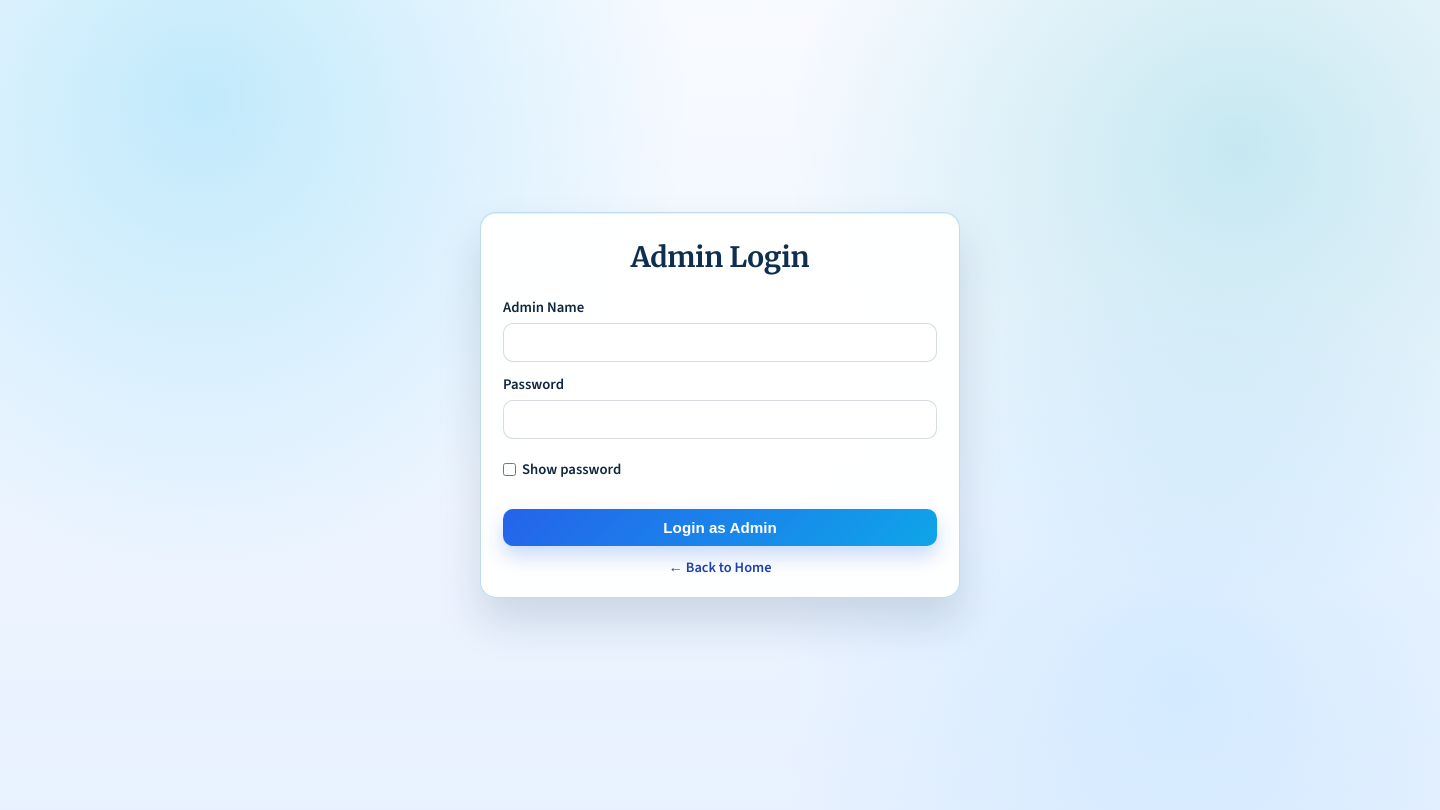
Test: shows error when admin login fails
In the field named "name": x=720, y=343 [503,323,937,362], type "wrong-admin"
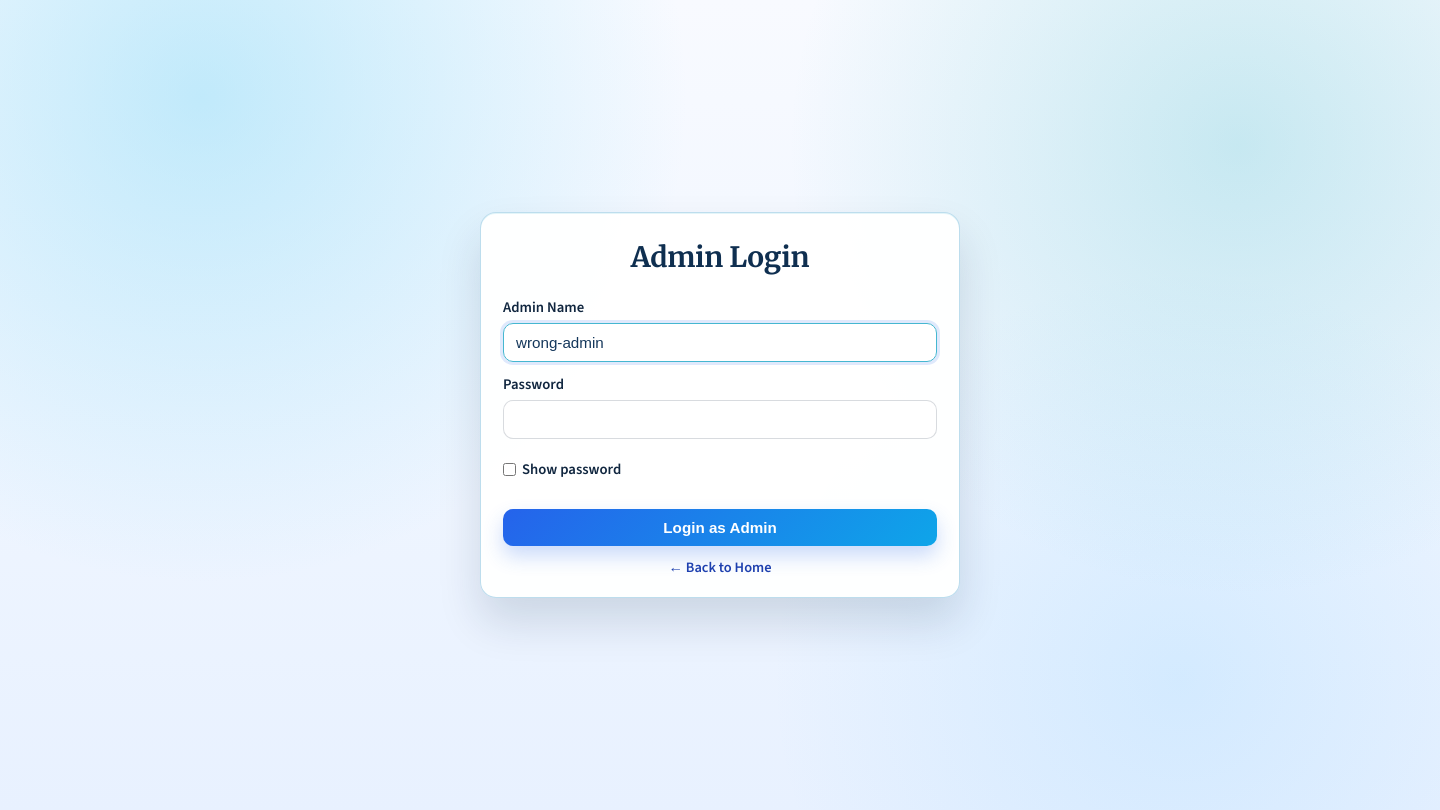
In the password field named "password": x=720, y=420 [503,400,937,439], type "wrong-pass"
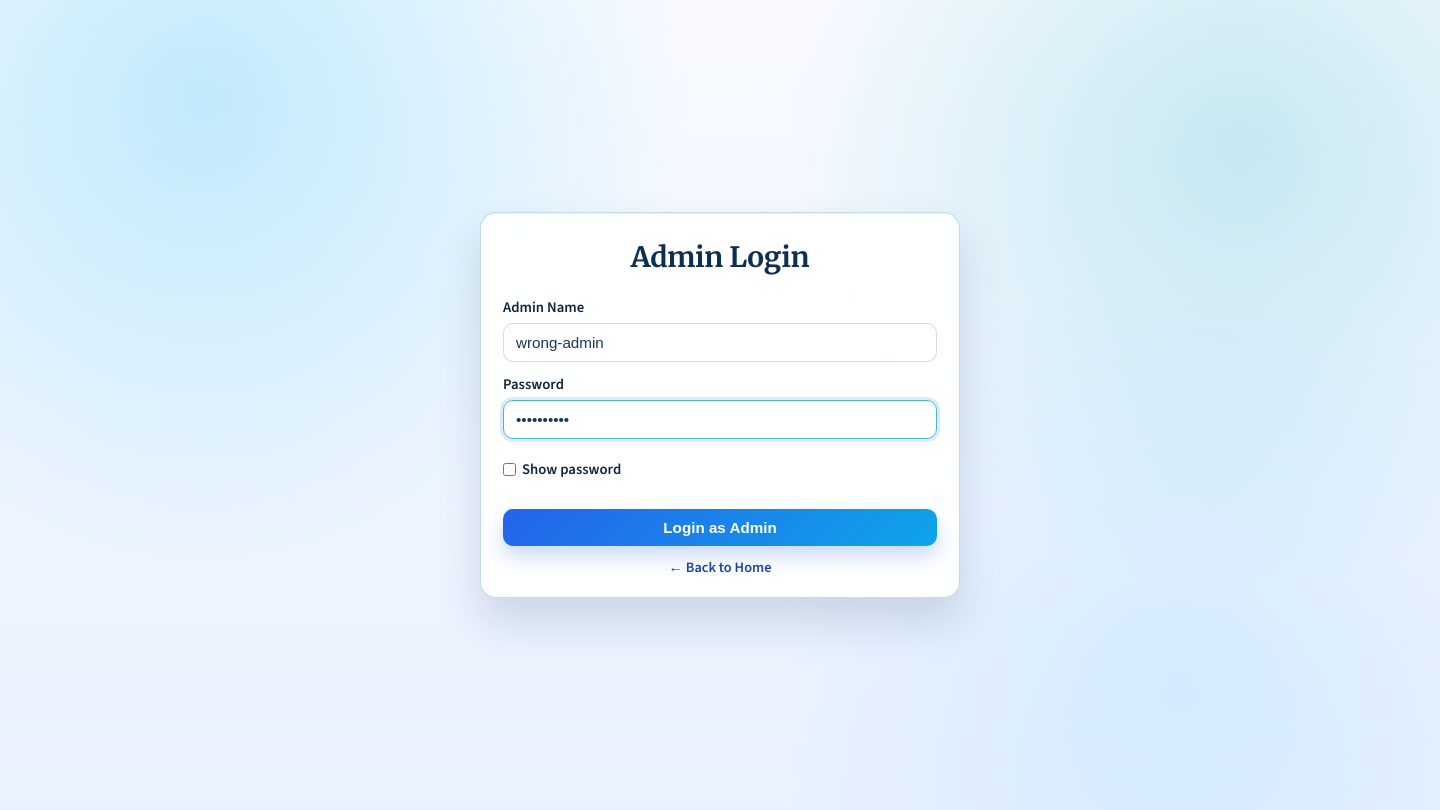
Click the button "Login as Admin": x=720, y=527 [503,509,937,546]
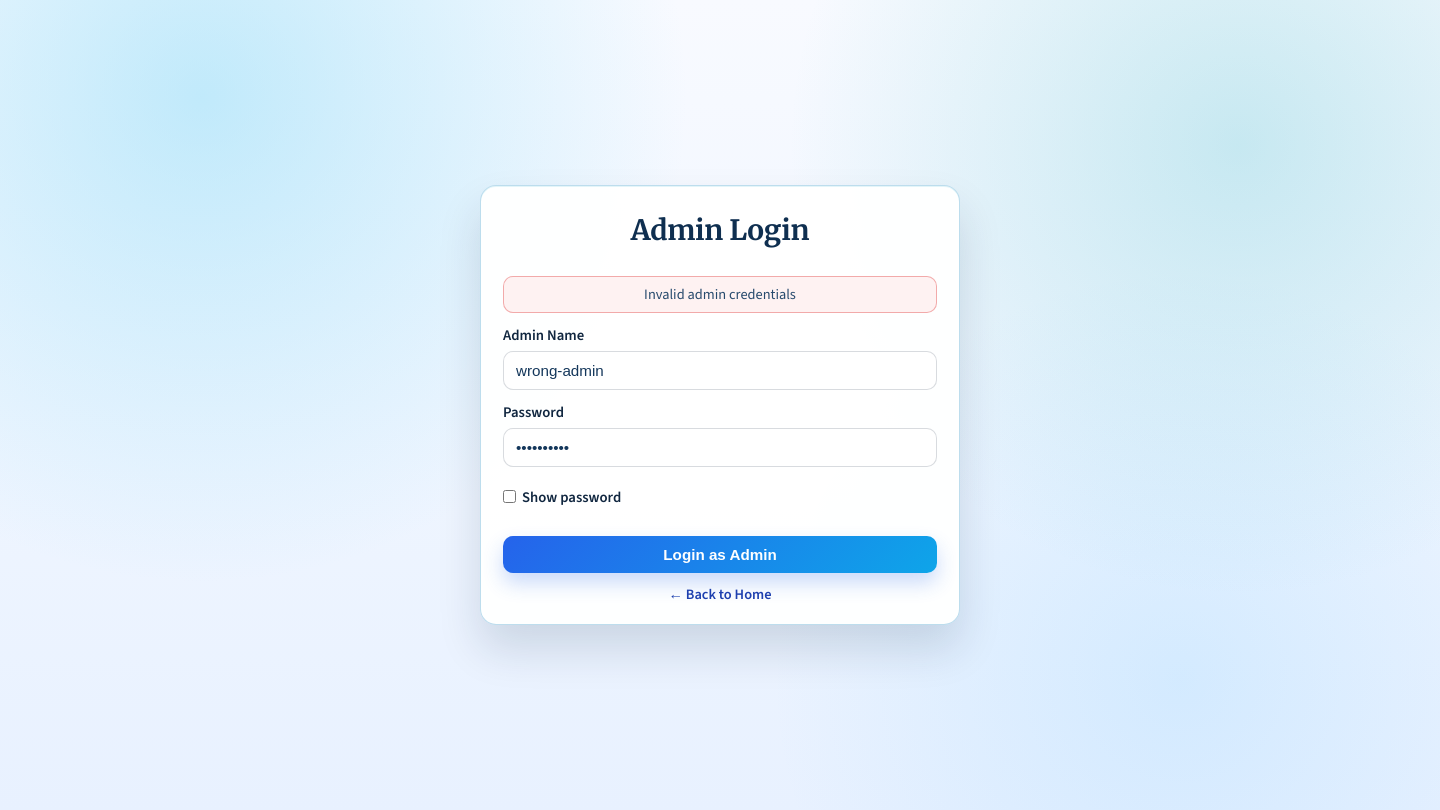
Now the text "Invalid admin credentials" is shown, box [503,276,937,313]
